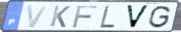F: (71, 5, 99, 29)
G: (147, 5, 173, 29)
K: (49, 5, 72, 29)
L: (99, 5, 117, 29)
V: (125, 4, 151, 29), (26, 4, 50, 29)
